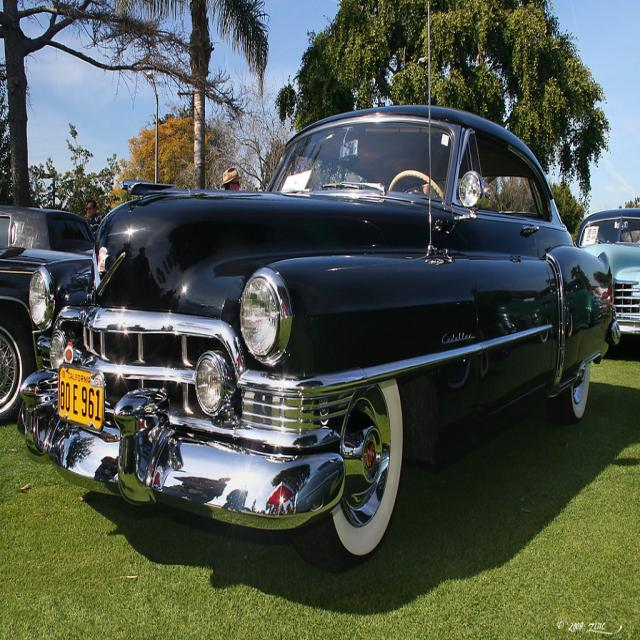car: (18, 0, 612, 576)
